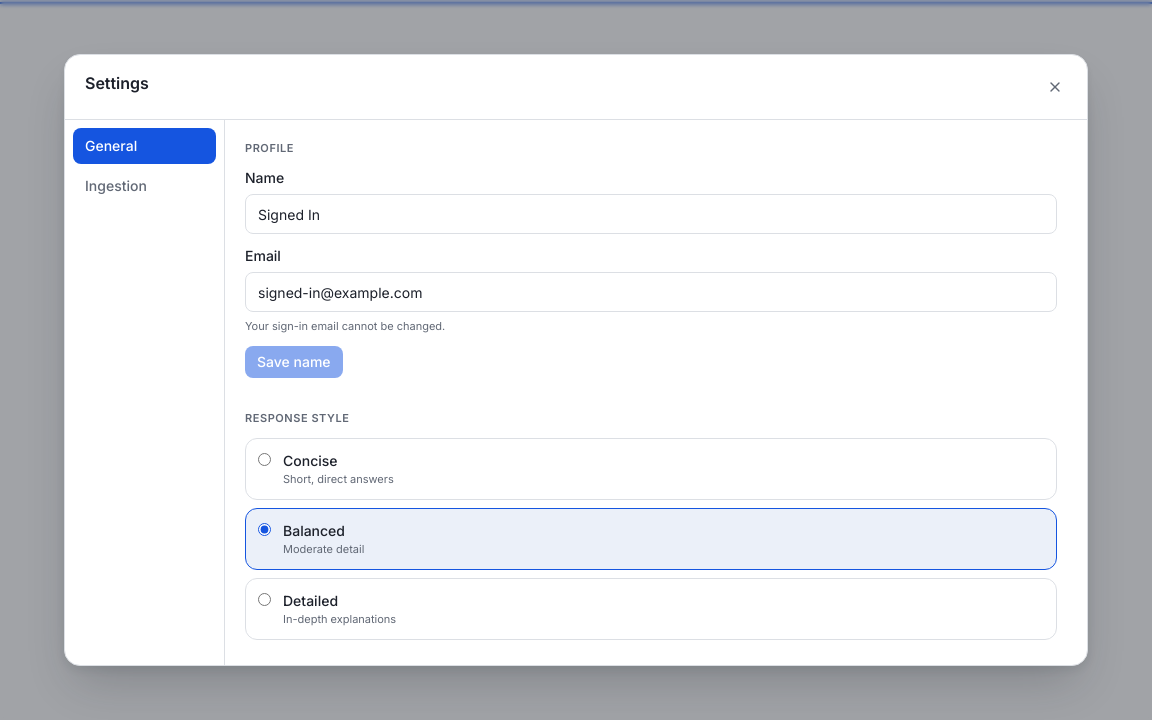
Test: SettingsDialog section visibility per role › an ingestor sees General and Ingestion, but not Admin
Click the tab "Ingestion" at x=144, y=186, box left=73, top=168, right=216, bottom=204
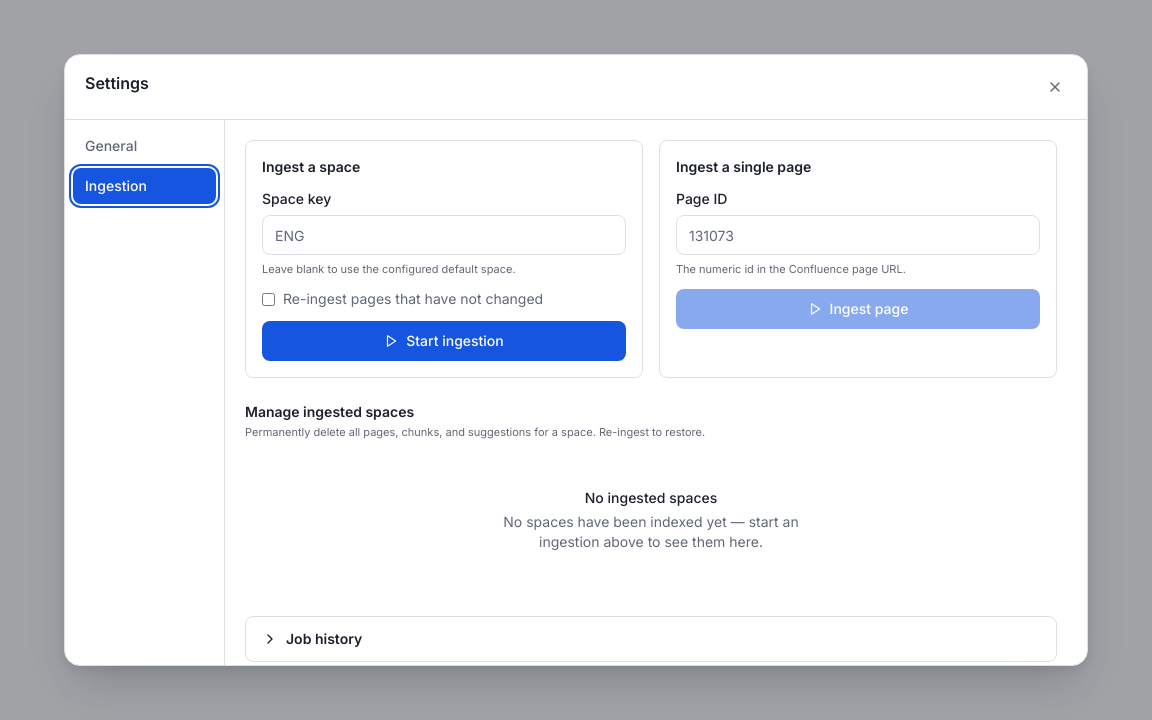
Now the heading "Ingest a space" is shown, box left=262, top=158, right=360, bottom=175
